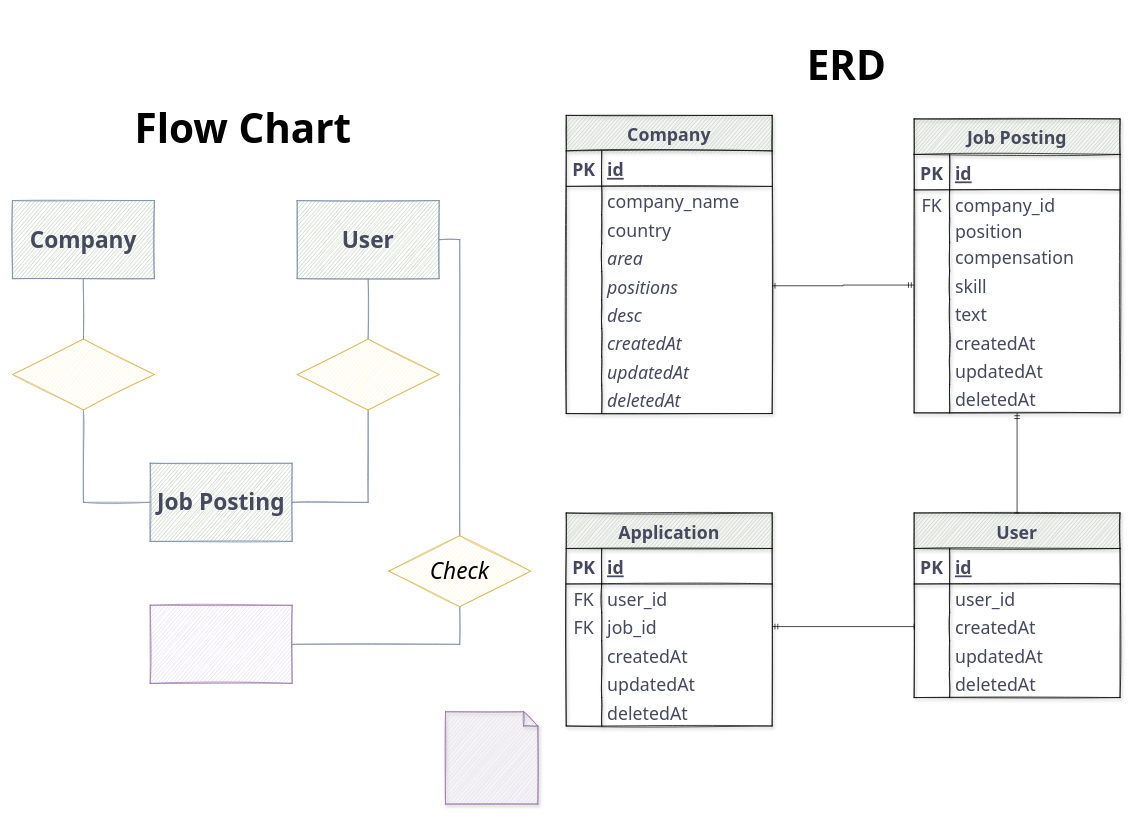
This 1137x821 diagram has some shape labels left out. Each missing label, with the centre of its shape:
"Application Details" goes at point (220, 644).
"Apply" goes at point (367, 374).
"Options Application Details" goes at point (492, 758).
"Register" goes at point (83, 374).
